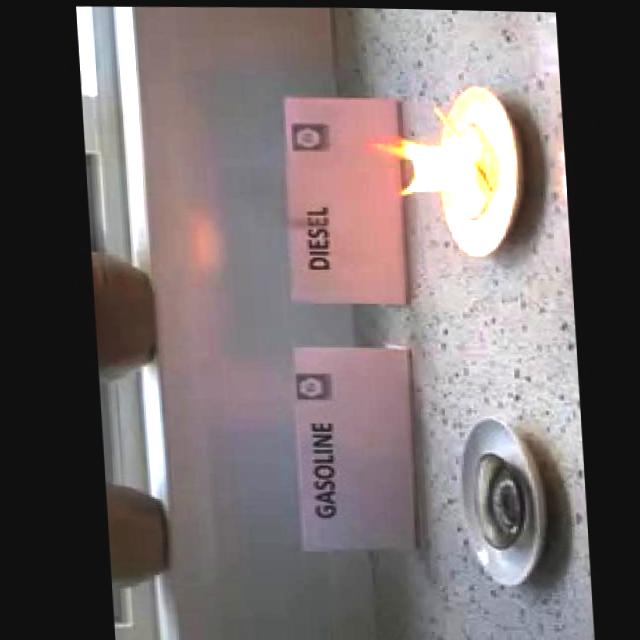no_helmet: (362, 122, 492, 207)
